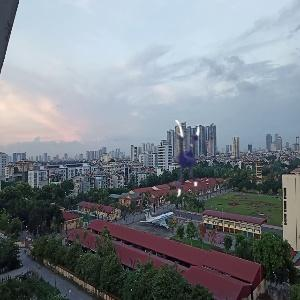drone: (141, 119, 219, 197)
